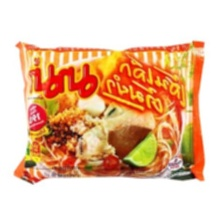snack: (6, 33, 217, 189)
